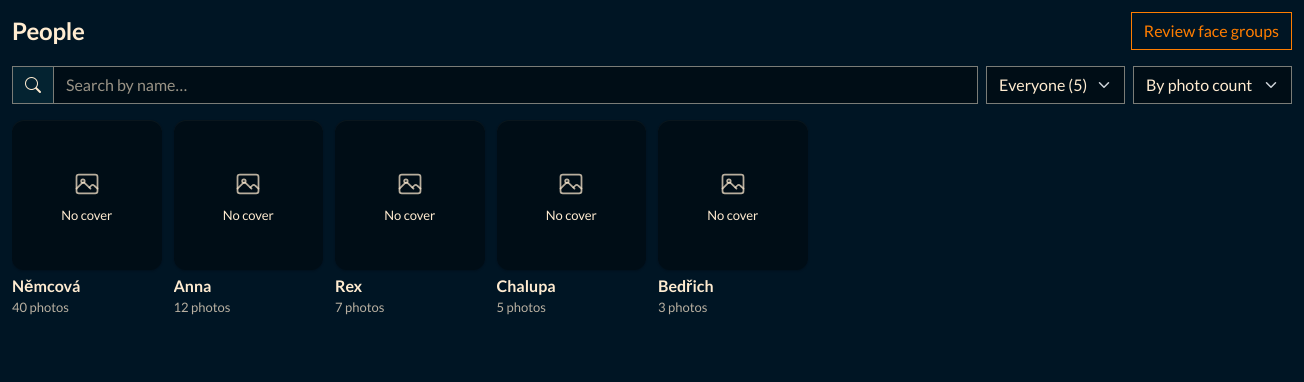
it: PeoplePage › says nothing matched rather than showing an empty grid
Expected: the link "No cover Anna 12 photos" is shown, [174, 120, 323, 316]
Step 1. Type "zzz" into the search field named "Search people" → (516, 85), box [53, 66, 978, 104]
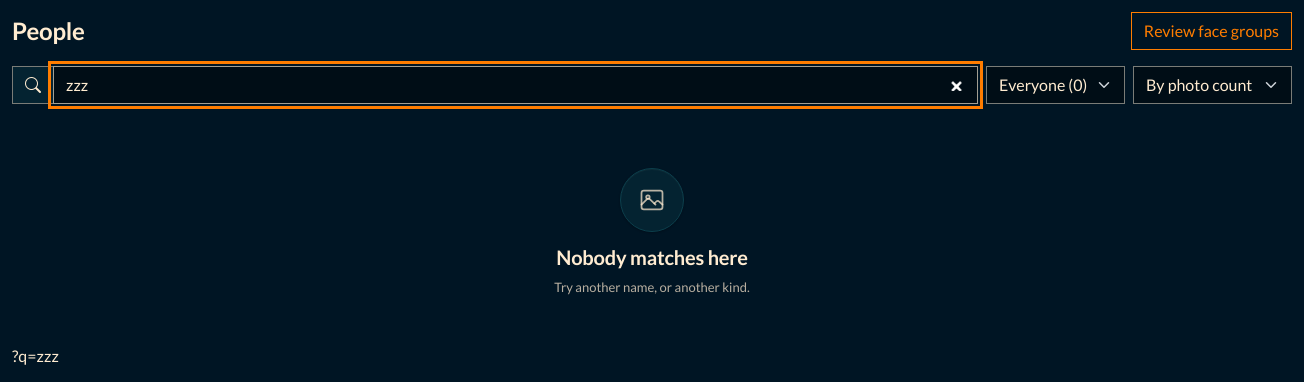
Result: the text "Nobody matches here" is shown at [556, 244, 748, 270]
Result: the text "Try another name, or another kind." is shown at [554, 278, 750, 296]
